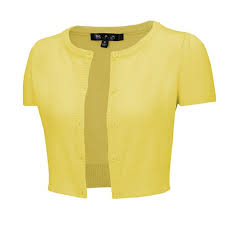S_cardigan sweater: (8, 18, 225, 212)
